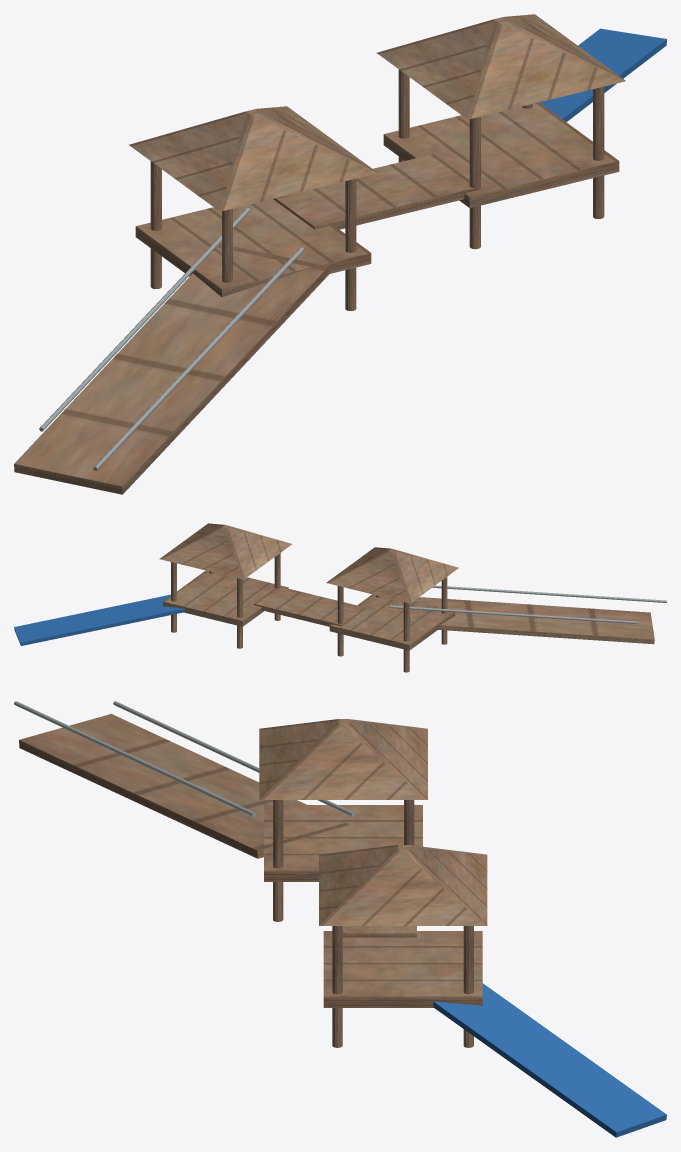
File: accessible-play-structure.glb
3 renders of one model, top to bottom at view 1: azimuth 30°, elevation 25°; view 2: azimuth 150°, elevation 25°; view 3: azimuth 270°, elevation 25°, orthographic. The views are drawn at different scales.
Parts seen in each view (by area): view 1: Accessible ramp, Tower roof.001, Tower roof, Tower platform.001, Tower platform, Accessible bridge, Wide slide, Ramp handrail, Ramp handrail.001, Tower post.002, Tower post.006, Tower post.004 (+3 smaller); view 2: Accessible ramp, Tower roof.001, Tower roof, Tower platform, Tower platform.001, Wide slide, Accessible bridge, Ramp handrail.001, Ramp handrail, Tower post.001, Tower post.003, Tower post.005 (+3 smaller); view 3: Accessible ramp, Tower roof.001, Tower roof, Wide slide, Tower platform.001, Tower platform, Ramp handrail, Tower post.002, Tower post.006, Ramp handrail.001, Tower post.007, Accessible bridge.
Boxes of the visible parts, x1,y1,x2,y2 form: Accessible ramp: [14, 243, 329, 494]; Tower roof.001: [376, 14, 625, 119]; Tower roof: [129, 106, 377, 211]; Tower platform.001: [383, 102, 619, 207]; Tower platform: [135, 199, 371, 297]; Accessible bridge: [273, 154, 474, 229]; Wide slide: [539, 28, 666, 121]; Ramp handrail: [93, 247, 303, 470]; Ramp handrail.001: [39, 207, 250, 431]; Tower post.002: [345, 178, 356, 311]; Tower post.006: [593, 86, 604, 218]; Tower post.004: [469, 116, 480, 249]; Accessible ramp: [403, 597, 654, 644]; Tower roof.001: [159, 523, 291, 579]; Tower roof: [326, 547, 458, 603]; Tower platform: [329, 594, 455, 650]; Tower platform.001: [163, 570, 288, 626]; Wide slide: [14, 594, 184, 645]; Accessible bridge: [253, 587, 365, 626]; Ramp handrail.001: [389, 605, 638, 623]; Ramp handrail: [432, 585, 666, 602]; Tower post.001: [403, 602, 409, 672]; Tower post.003: [337, 586, 343, 656]; Tower post.005: [237, 578, 242, 648]; Accessible ramp: [19, 714, 349, 858]; Tower roof.001: [319, 845, 487, 925]; Tower roof: [259, 719, 427, 799]; Wide slide: [433, 983, 666, 1137]; Tower platform.001: [323, 931, 482, 1007]; Tower platform: [264, 805, 422, 881]; Ramp handrail: [14, 701, 255, 816]; Tower post.002: [273, 800, 283, 921]; Tower post.006: [332, 926, 342, 1047]; Ramp handrail.001: [113, 701, 355, 816]; Tower post.007: [463, 926, 473, 1047]; Accessible bridge: [342, 926, 416, 937].
Bounding box in the file's own units: 24.82 × 4.75 × 16.44.
3 materials, 1 textured.
